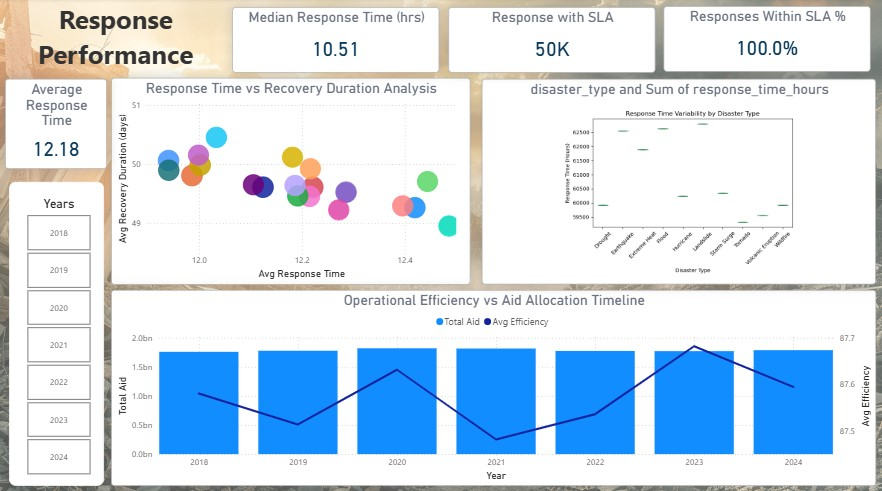

What the dashboard file says about the page in this screenshot:
{"tool":"powerbi","page":{"name":"Response Performance","canvas":[1280,720],"ordinal":2},"visuals":[{"type":"slicer","title":"Years","fields":{"Values":["Calender_Table.Year"]},"box":[14.6,266.4,137.6,440.6],"z":0},{"type":"scatterChart","title":"Response Time vs Recovery Duration Analysis","fields":{"X":["Disasters_Table.Avg Response Time"],"Y":["Disasters_Table.Avg Recovery Duration (days)"],"Size":["Disasters_Table.Total Economic Loss"],"Series":["Disasters_Table.country"]},"box":[161.8,115.8,520.4,299.9],"z":1000},{"type":"lineStackedColumnComboChart","title":"Operational Efficiency vs Aid Allocation Timeline","fields":{"Category":["Calender_Table.Year"],"Y":["Disasters_Table.Total Aid"],"Y2":["Disasters_Table.Avg Efficiency"]},"box":[161.8,422.7,1109.1,284.6],"z":2000},{"type":"pythonVisual","fields":{"Values":["Disasters_Table.disaster_type","Sum(Disasters_Table.response_time_hours)"]},"box":[699.1,117.2,571.7,298.2],"z":3000},{"type":"card","title":"Average Response Time","fields":{"Values":["Disasters_Table.Avg Response Time"]},"box":[8.8,117.1,147.9,130.3],"z":4000},{"type":"card","title":"Median Response Time (hrs)","fields":{"Values":["Disasters_Table.Median Response Time (hrs)"]},"box":[337.6,12.6,300,95],"z":5000},{"type":"card","title":"Response with SLA","fields":{"Values":["Disasters_Table.Responses Within SLA"]},"box":[651.5,12.6,300,95],"z":6000},{"type":"card","title":"Responses Within SLA %","fields":{"Values":["Disasters_Table.Responses Within SLA %"]},"box":[964,11.2,300,95],"z":7000},{"type":"textbox","box":[13.2,0,311.8,115.7],"z":8000}]}

Visuals, with their boxes in screenshot pixels (x1, y1, x2, y2), scaled from the page's 1280x720 canvas onto the 882x491 screenshot:
"Years" slicer: <region>10, 182, 105, 482</region>
"Response Time vs Recovery Duration Analysis" scatterChart: <region>111, 79, 470, 283</region>
"Operational Efficiency vs Aid Allocation Timeline" lineStackedColumnComboChart: <region>111, 288, 876, 482</region>
pythonVisual - Disasters_Table.disaster_type x Sum(Disasters_Table.response_time_hours): <region>482, 80, 876, 283</region>
"Average Response Time" card: <region>6, 80, 108, 169</region>
"Median Response Time (hrs)" card: <region>233, 9, 439, 73</region>
"Response with SLA" card: <region>449, 9, 656, 73</region>
"Responses Within SLA %" card: <region>664, 8, 871, 72</region>
textbox: <region>9, 0, 224, 79</region>
